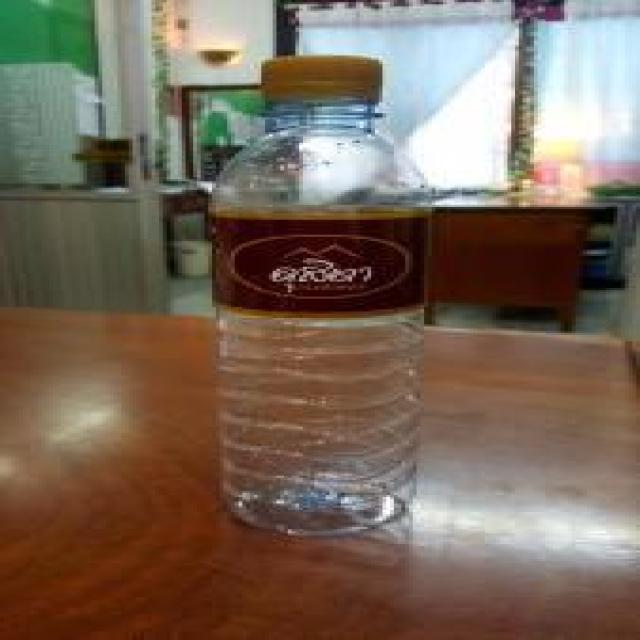bottle: (187, 39, 449, 552)
